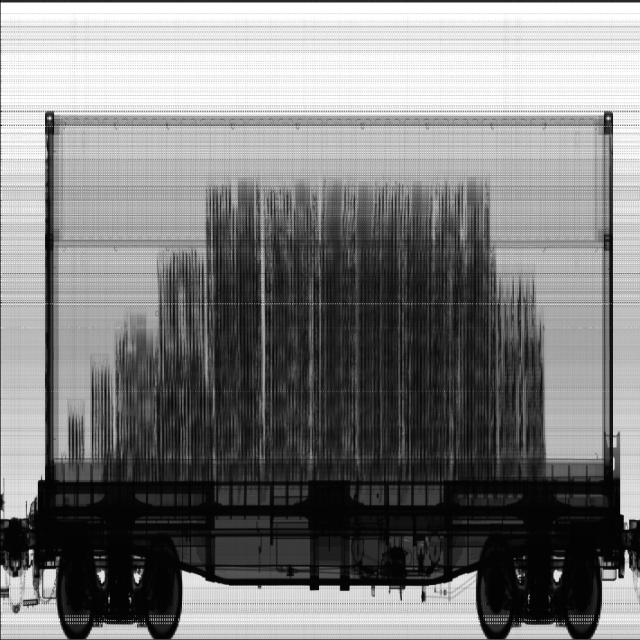spare parts: (62, 248, 213, 478)
